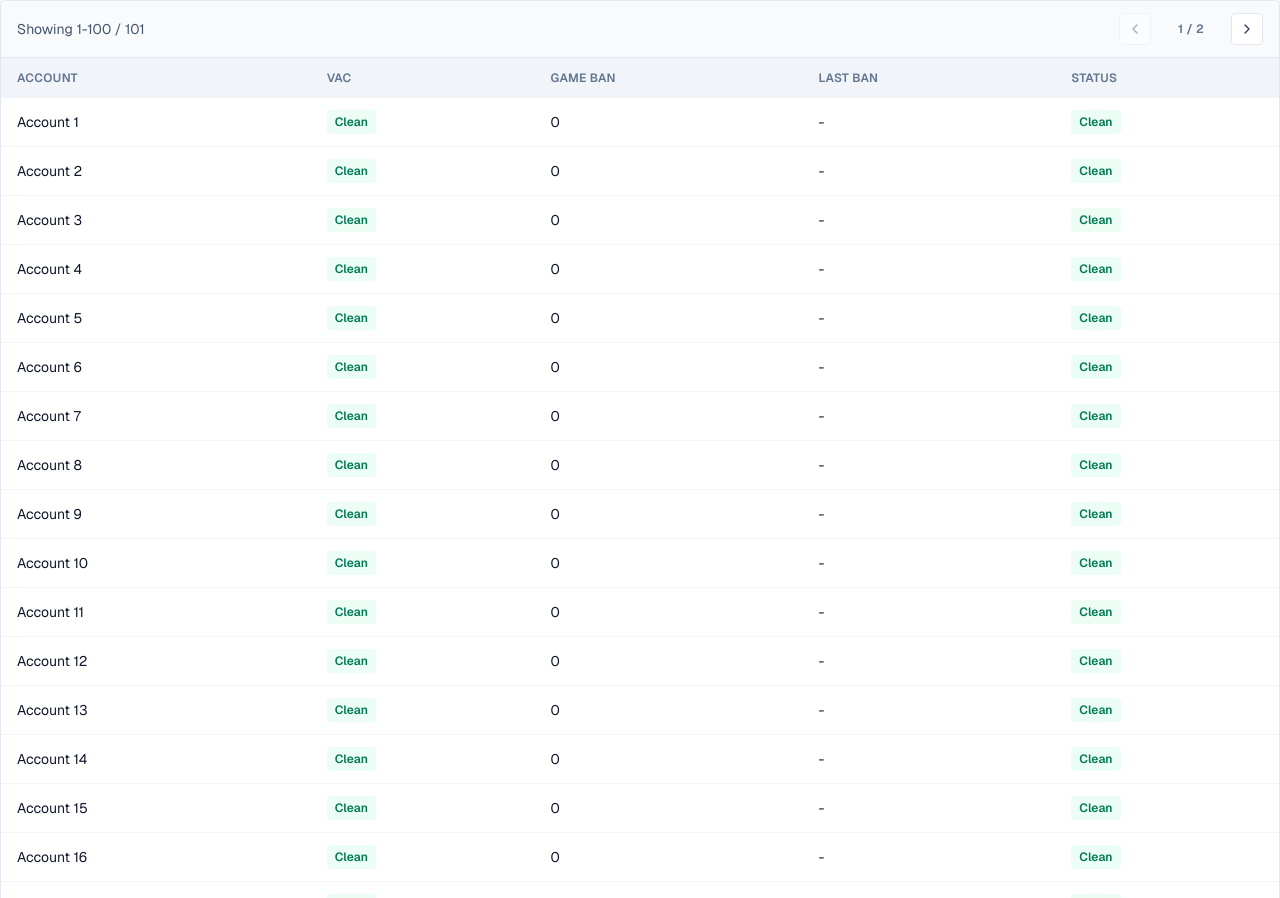
Test: BatchResultsTable › paginates large batch result sets
The image size is (1280, 898).
Expected: the text "Account 1" is shown, [1, 98, 311, 146]
Expected: the text "Account 101" is not shown
Click the button named "Next page" at (1247, 29), box [1231, 13, 1263, 45]
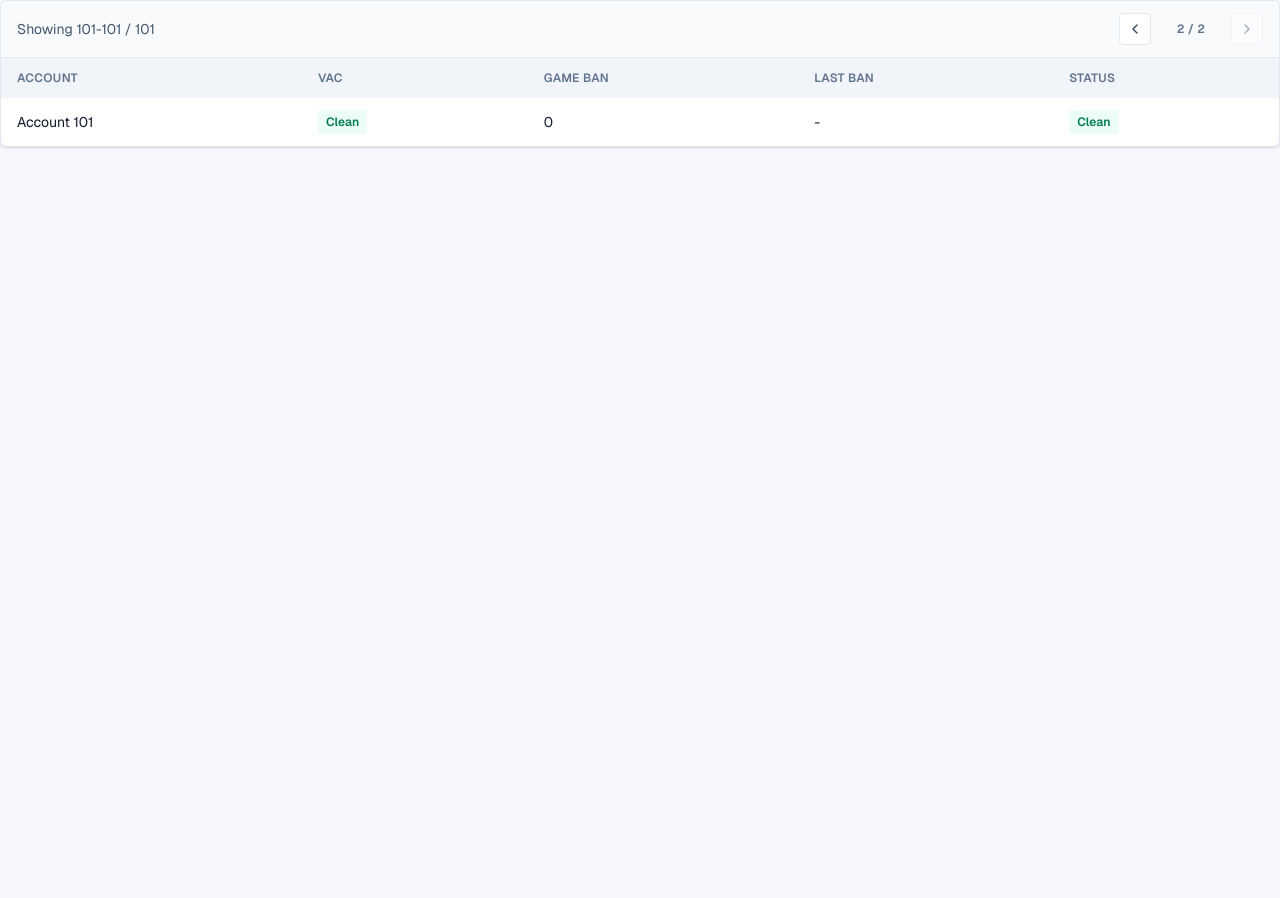
Expected: the text "Account 101" is shown, [1, 98, 302, 146]
Expected: the text "Showing 101-101 / 101" is shown, [17, 19, 155, 39]
